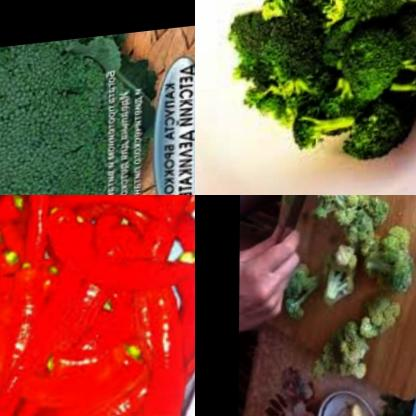broccoli: (228, 0, 416, 194), (0, 38, 140, 195), (308, 306, 393, 384), (287, 195, 383, 249), (360, 225, 413, 298), (313, 250, 369, 317), (264, 266, 312, 328)
garlic: (348, 406, 364, 416)
hot pepper: (0, 195, 195, 416)
